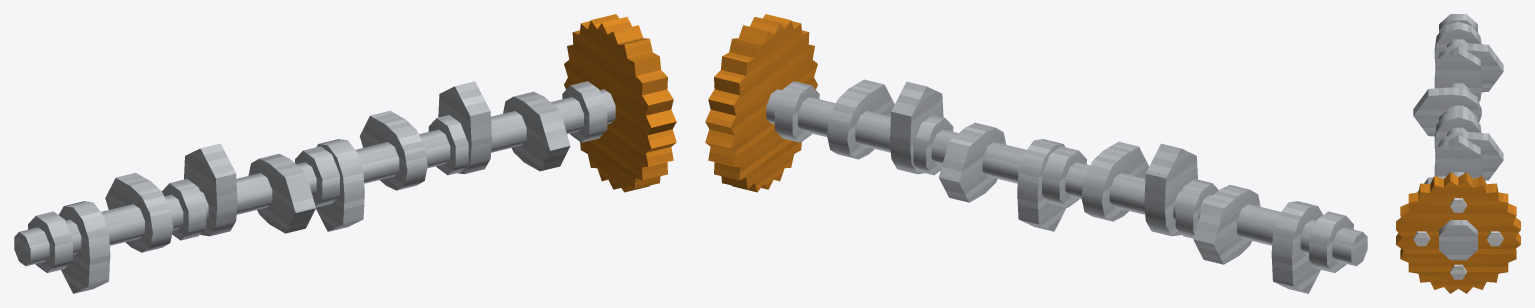
The model's file is comando_n3.glb.
3 renders of one model, left to right at view 1: azimuth 30°, elevation 25°; view 2: azimuth 150°, elevation 25°; view 3: azimuth 270°, elevation 25°, orthographic. The views are drawn at different scales.
Parts seen in each view (by area): view 1: comando_n3; view 2: comando_n3; view 3: comando_n3.
Part boxes in pixels (<box>): comando_n3: <box>14,14,676,293</box>; comando_n3: <box>705,14,1367,293</box>; comando_n3: <box>1396,14,1520,293</box>.
Bounding box in the file's own units: 0.492 × 0.119 × 0.119.
Materials: 2 (2 with a texture image).
